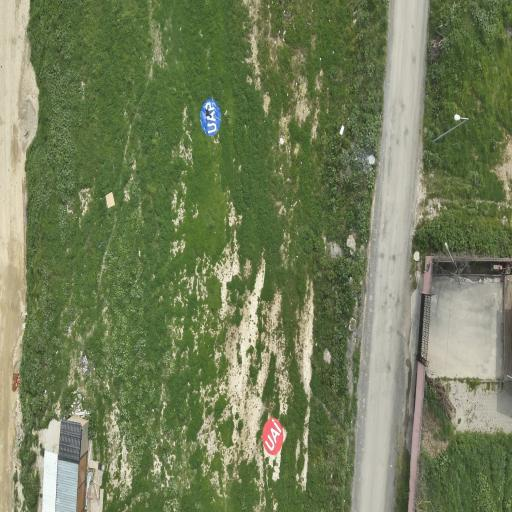UAI: (263, 418, 283, 455)
UAP: (200, 99, 221, 136)
person: (205, 109, 210, 116)
